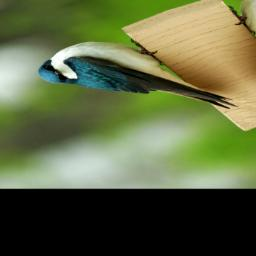Swallow: (23, 18, 242, 150)
